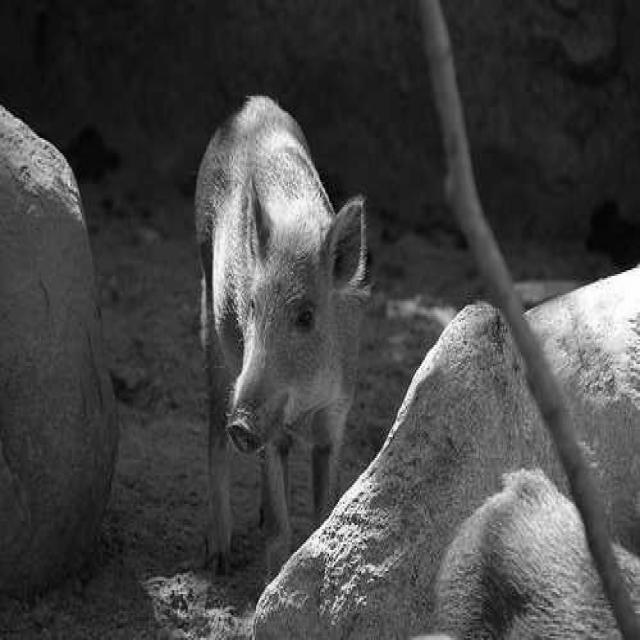boar: (197, 96, 365, 579)
